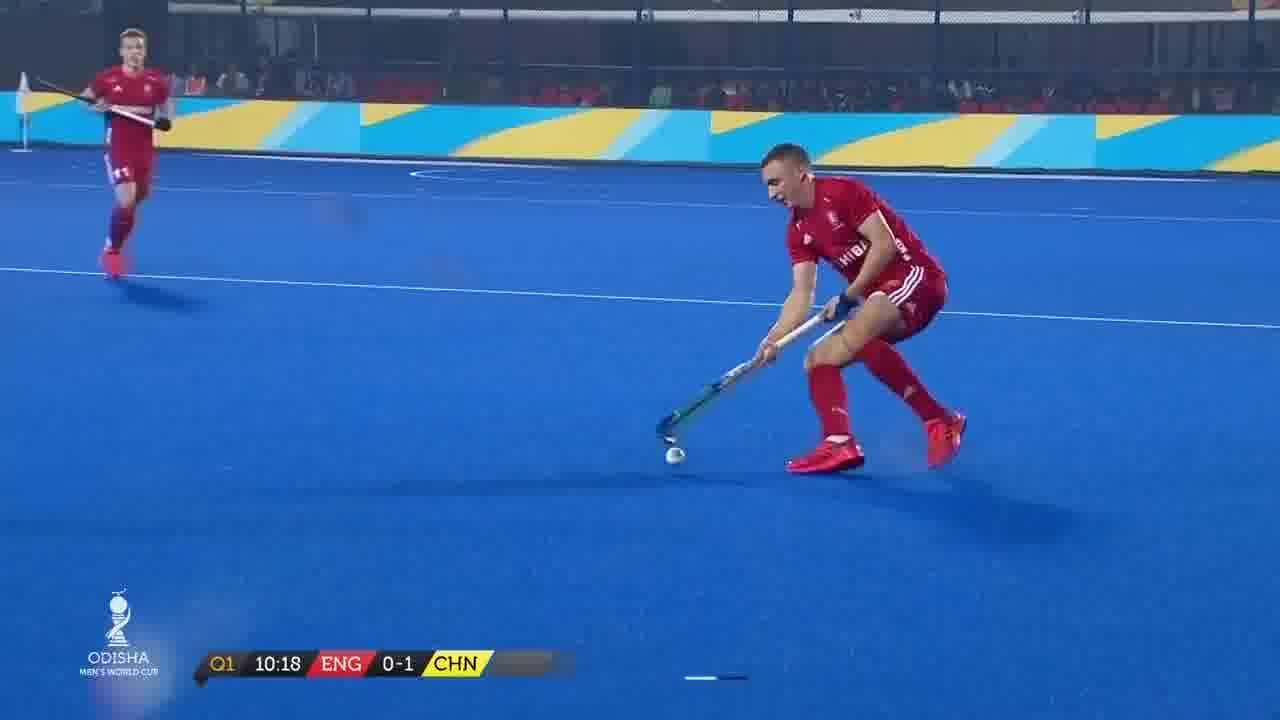ball: (660, 442, 696, 472)
